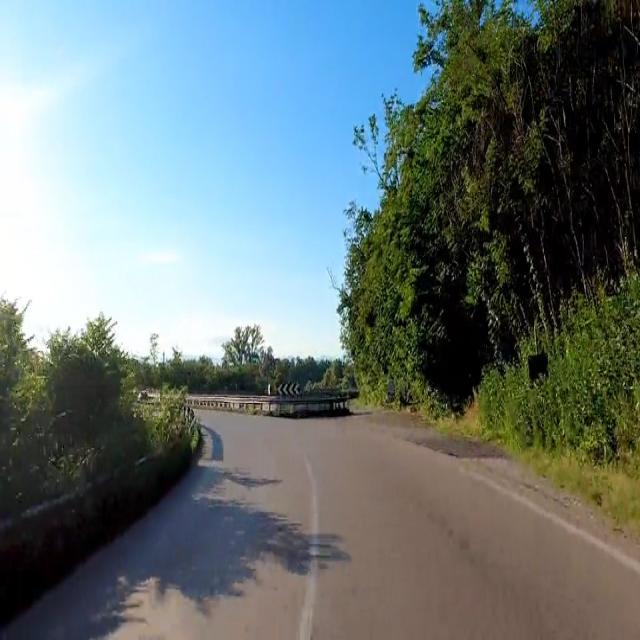lane: (377, 412, 639, 576), (468, 471, 639, 574), (299, 456, 318, 639)
road: (0, 410, 639, 638)
